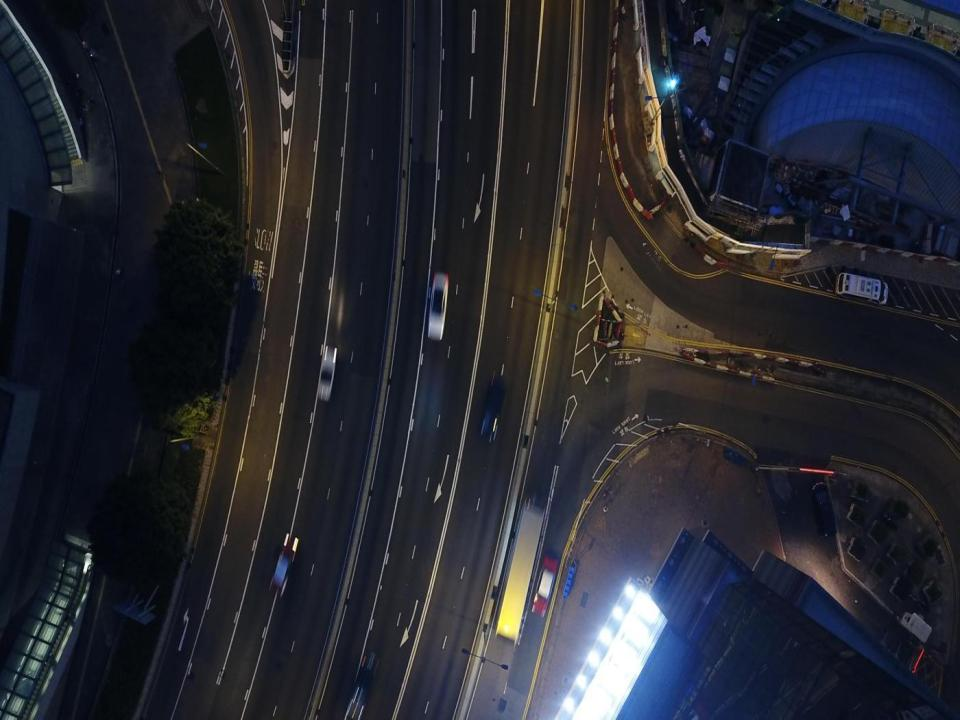bus: (494, 502, 545, 645)
car: (343, 645, 378, 716), (271, 532, 299, 593), (531, 557, 557, 618), (482, 373, 505, 437), (429, 272, 448, 340), (318, 347, 336, 401)
van: (837, 273, 890, 304)
